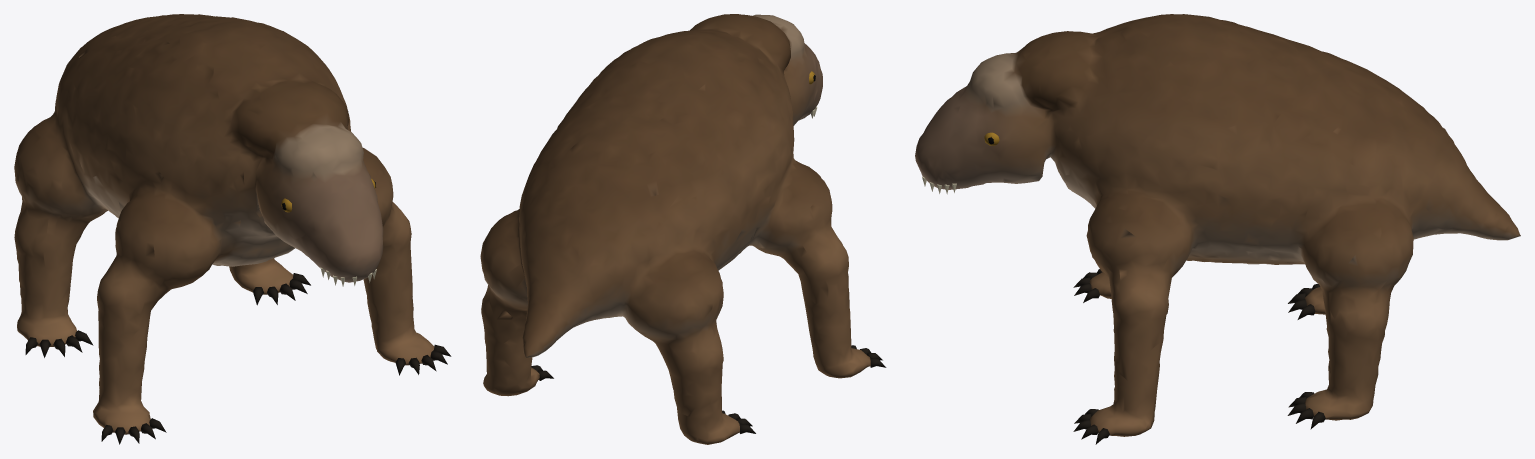
File: Moschops.fbx
The picture shows the model from 3 angles, left to right: view 1: azimuth 30°, elevation 25°; view 2: azimuth 150°, elevation 25°; view 3: azimuth 270°, elevation 25°; orthographic projection. The views are drawn at different scales.
Parts seen in each view (by area): view 1: Moschops; view 2: Moschops; view 3: Moschops.
Boxes of the visible parts, x1,y1,x2,y2 form: Moschops: [14, 14, 451, 444]; Moschops: [480, 14, 886, 444]; Moschops: [915, 14, 1520, 444].
Bounding box in the file's own units: 0.9285 × 0.8591 × 1.4.
